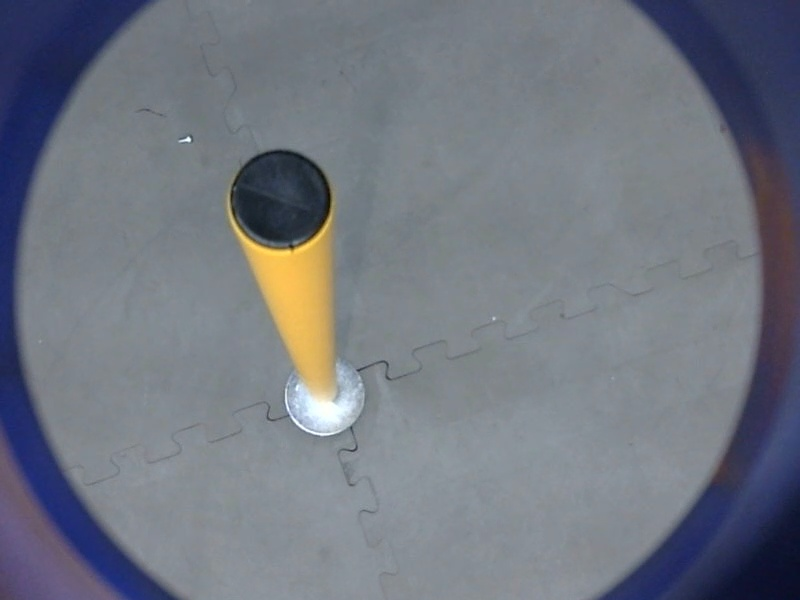tip: (221, 143, 339, 257)
